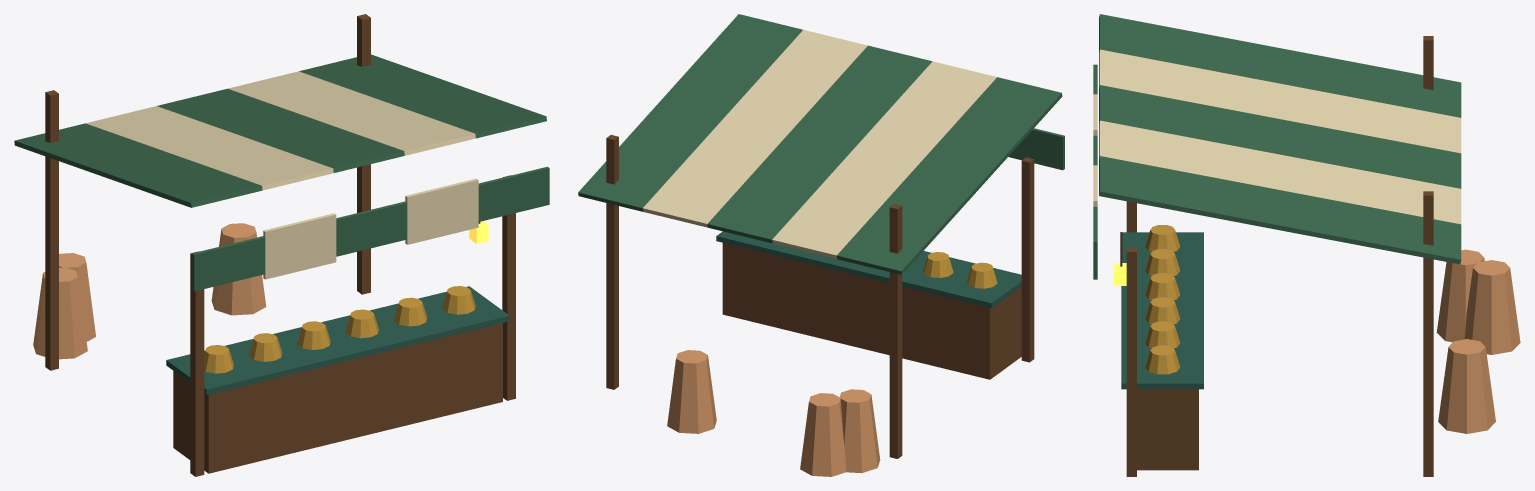
Rendered from stall_brass.glb.
The picture shows the model from 3 angles, left to right: view 1: azimuth 30°, elevation 25°; view 2: azimuth 150°, elevation 25°; view 3: azimuth 270°, elevation 25°; orthographic projection. The views are drawn at different scales.
Parts seen in each view (by area): view 1: Stall; view 2: Stall; view 3: Stall.
Boxes of the visible parts, x1,y1,x2,y2 form: Stall: (14,14,549,476); Stall: (578,14,1064,476); Stall: (1093,14,1520,476).
Size of the model in its own units: 4.06 by 3.14 by 4.13.
